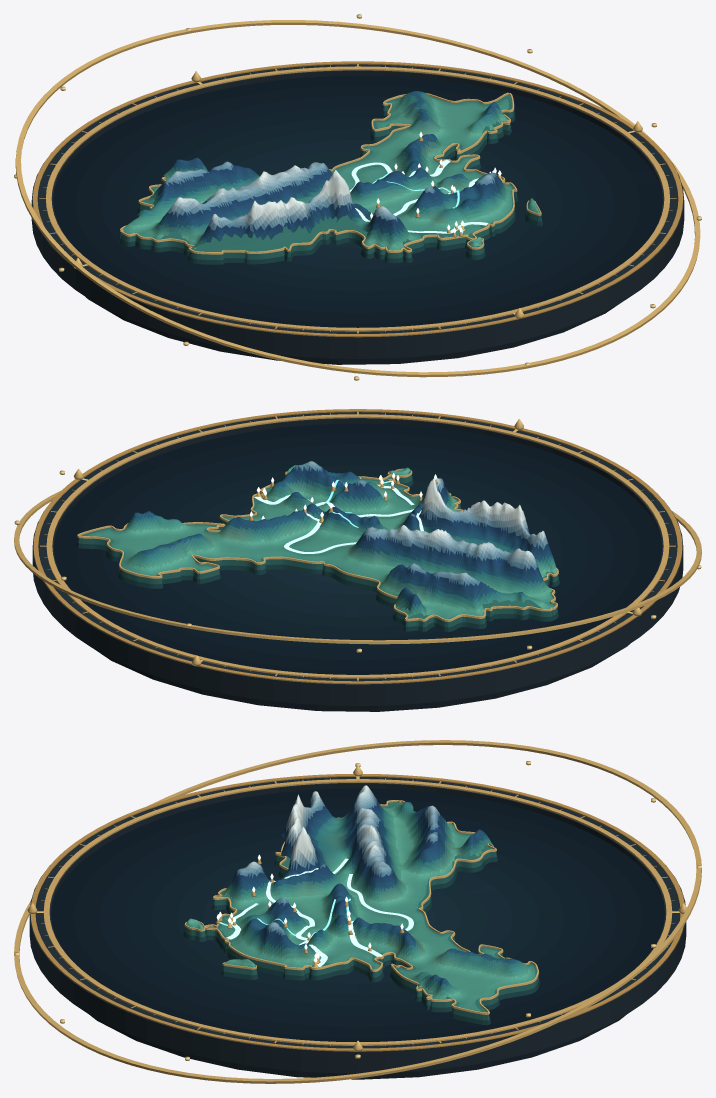
Rendered from china-atlas.glb.
3 views of the same model, one above another, from view 1: azimuth 30°, elevation 25°; view 2: azimuth 150°, elevation 25°; view 3: azimuth 270°, elevation 25° (orthographic).
Parts seen in each view (by area): view 1: Atlas_Sea_Basin, China_Mainland_Relief_0, Atlas_Pedestal_Bronze, Atlas_Compass_Brass, Atlas_Orbital_Ring, China_Mainland_Relief_0_Rim; view 2: Atlas_Sea_Basin, China_Mainland_Relief_0, Atlas_Pedestal_Bronze, Atlas_Compass_Brass, Atlas_Orbital_Ring, China_Mainland_Relief_0_Rim; view 3: Atlas_Sea_Basin, China_Mainland_Relief_0, Atlas_Pedestal_Bronze, Atlas_Compass_Brass, Atlas_Orbital_Ring, China_Mainland_Relief_0_Rim, River_Spline_Yangtze, River_Spline_Yellow, China_Taiwan_Relief_0.
Part boxes in pixels (left/top/right/bottom): Atlas_Sea_Basin: left=53, top=75, right=662, bottom=327; China_Mainland_Relief_0: left=119, top=91, right=518, bottom=264; Atlas_Pedestal_Bronze: left=31, top=64, right=684, bottom=364; Atlas_Compass_Brass: left=32, top=61, right=683, bottom=337; Atlas_Orbital_Ring: left=14, top=14, right=701, bottom=380; China_Mainland_Relief_0_Rim: left=120, top=92, right=517, bottom=254; Atlas_Sea_Basin: left=54, top=423, right=661, bottom=674; China_Mainland_Relief_0: left=76, top=461, right=559, bottom=632; Atlas_Pedestal_Bronze: left=32, top=412, right=683, bottom=711; Atlas_Compass_Brass: left=33, top=409, right=682, bottom=684; Atlas_Orbital_Ring: left=14, top=470, right=701, bottom=652; China_Mainland_Relief_0_Rim: left=77, top=474, right=558, bottom=621; Atlas_Sea_Basin: left=51, top=788, right=664, bottom=1041; China_Mainland_Relief_0: left=205, top=785, right=539, bottom=1025; Atlas_Pedestal_Bronze: left=29, top=777, right=686, bottom=1079; Atlas_Compass_Brass: left=27, top=765, right=686, bottom=1051; Atlas_Orbital_Ring: left=14, top=740, right=701, bottom=1083; China_Mainland_Relief_0_Rim: left=205, top=800, right=538, bottom=1014; River_Spline_Yangtze: left=266, top=858, right=348, bottom=966; River_Spline_Yellow: left=347, top=874, right=413, bottom=956; China_Taiwan_Relief_0: left=221, top=959, right=258, bottom=979.
Size of the model in its own units: 35.84 by 6.28 by 35.51.
